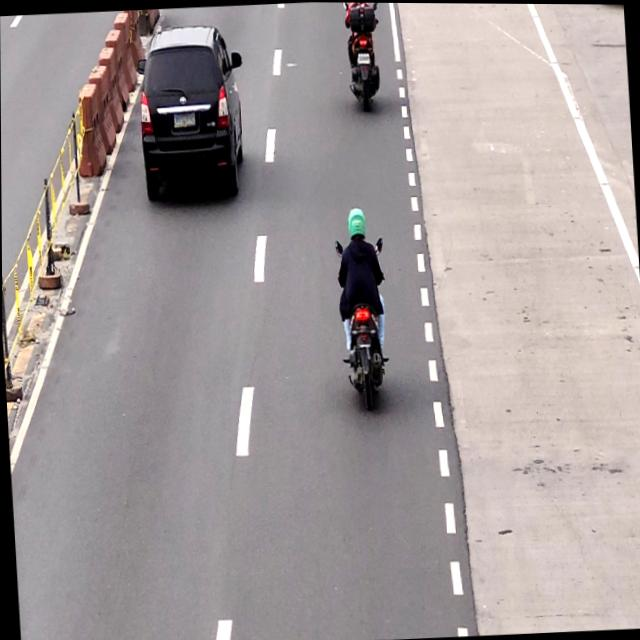Car: (135, 23, 242, 204)
License-Plate: (172, 109, 196, 130), (357, 52, 373, 65)
Motorcycle: (329, 203, 391, 420), (345, 2, 387, 106)
